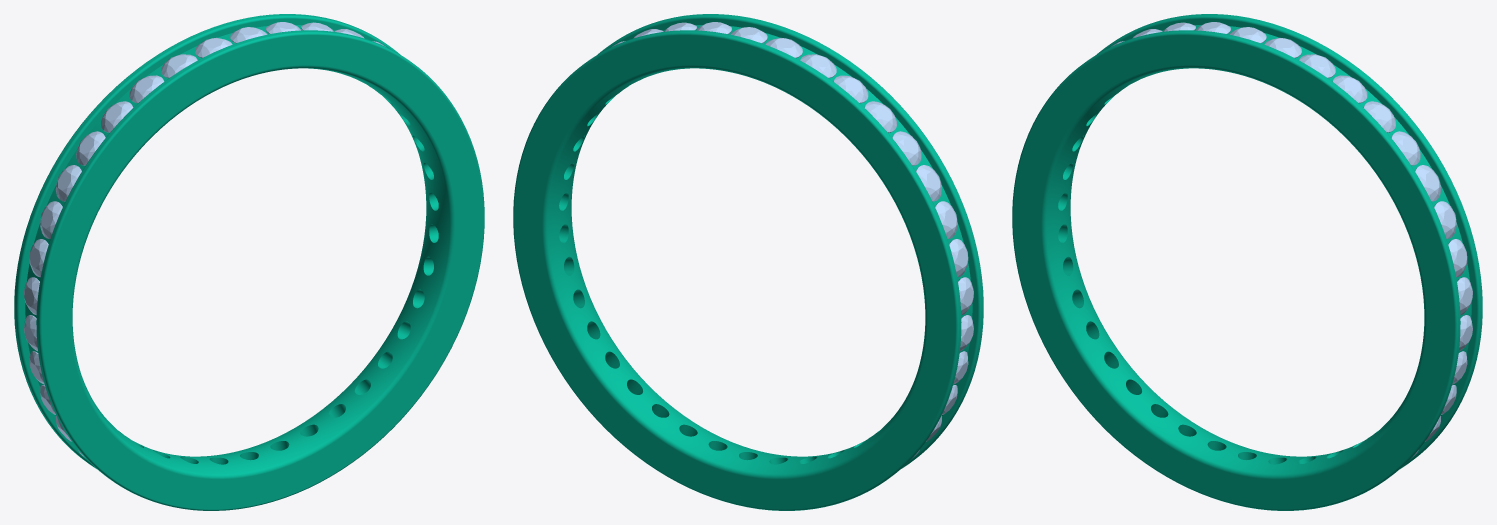
3 renders of one model, left to right at view 1: azimuth 30°, elevation 25°; view 2: azimuth 150°, elevation 25°; view 3: azimuth 330°, elevation 25°, orthographic.
Visible parts, largest first — view 1: full eternity ring.3dm, Diamond_Round (×5); view 2: full eternity ring.3dm, Diamond_Round (×5); view 3: full eternity ring.3dm, Diamond_Round (×5).
Boxes of the visible parts, x1=… form: full eternity ring.3dm: x1=14, y1=14, x2=484, y2=510; Diamond_Round (×5): x1=40, y1=75, x2=164, y2=238; full eternity ring.3dm: x1=513, y1=14, x2=983, y2=510; Diamond_Round (×5): x1=833, y1=75, x2=957, y2=238; full eternity ring.3dm: x1=1012, y1=14, x2=1482, y2=510; Diamond_Round (×5): x1=1332, y1=75, x2=1456, y2=238.
Size of the model in its own units: 2.82 by 2.82 by 0.2934.
